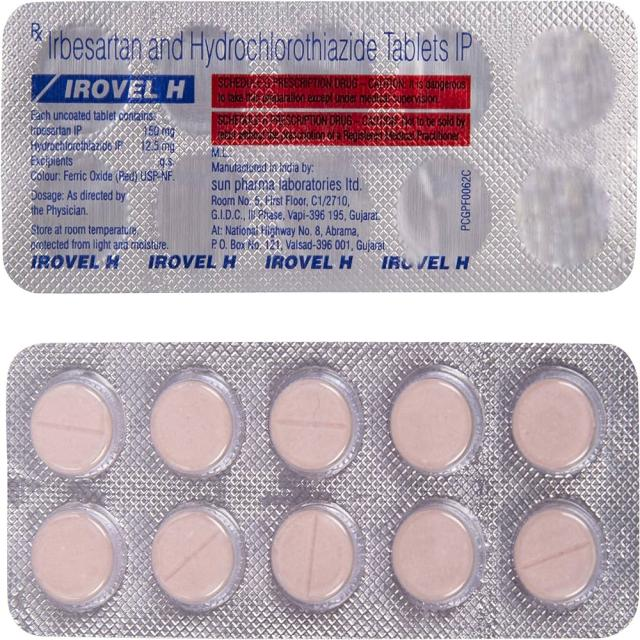Medicine-name: (46, 30, 480, 69)
